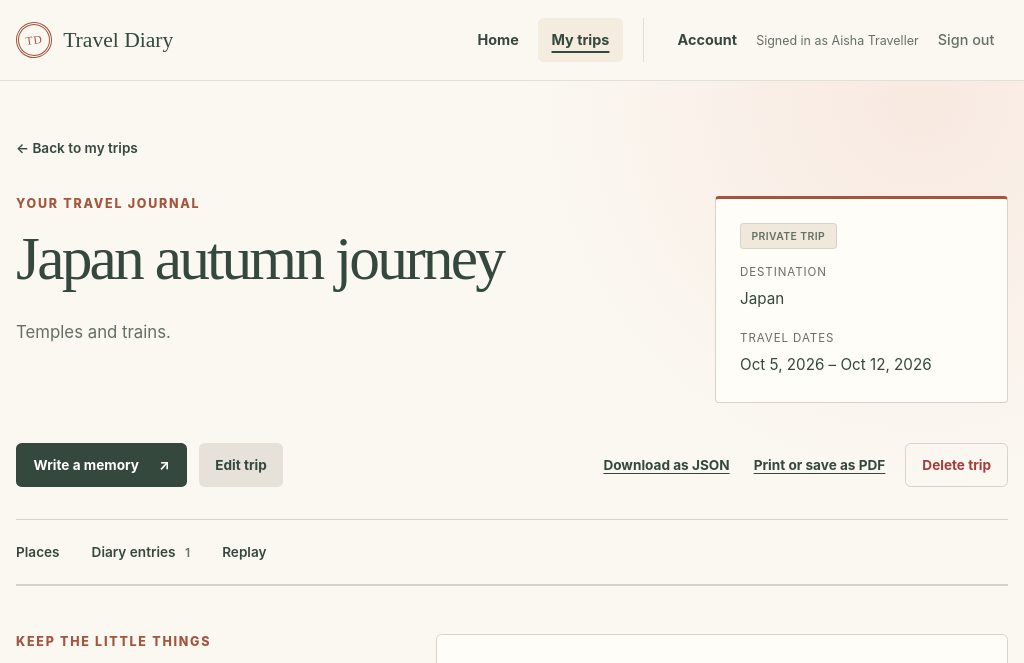
TripDetails owner actions › shows the reason when a trip cannot be deleted
This screenshot has width=1024, height=663.
Step 1. Click the button "Delete trip" → (957, 465), box [905,443,1008,487]
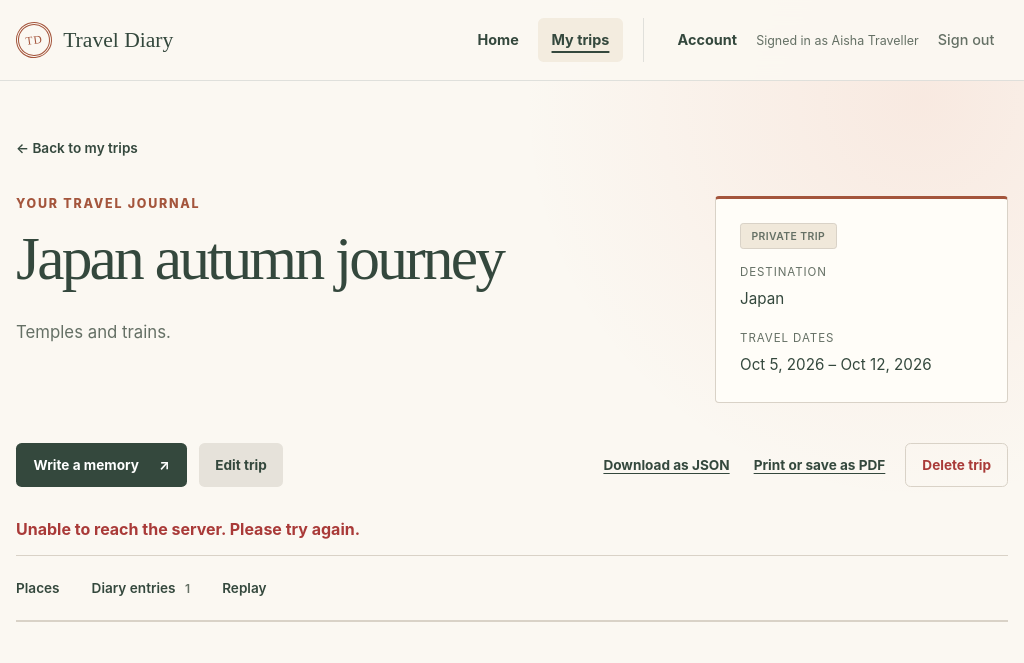
Check: the message shows "Unable to reach the server.", box [16,519,360,539]
